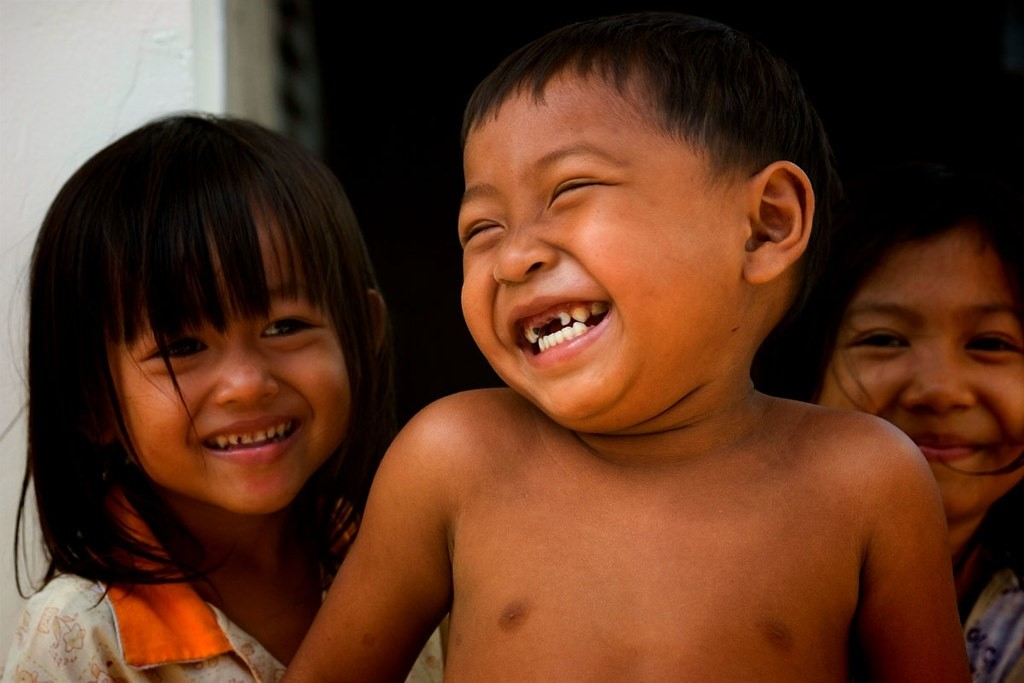face_no_mask: (456, 12, 841, 438), (46, 116, 391, 523), (818, 180, 1023, 522)
